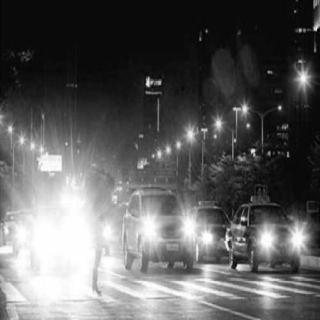other: (140, 213, 160, 244), (214, 116, 228, 140)
